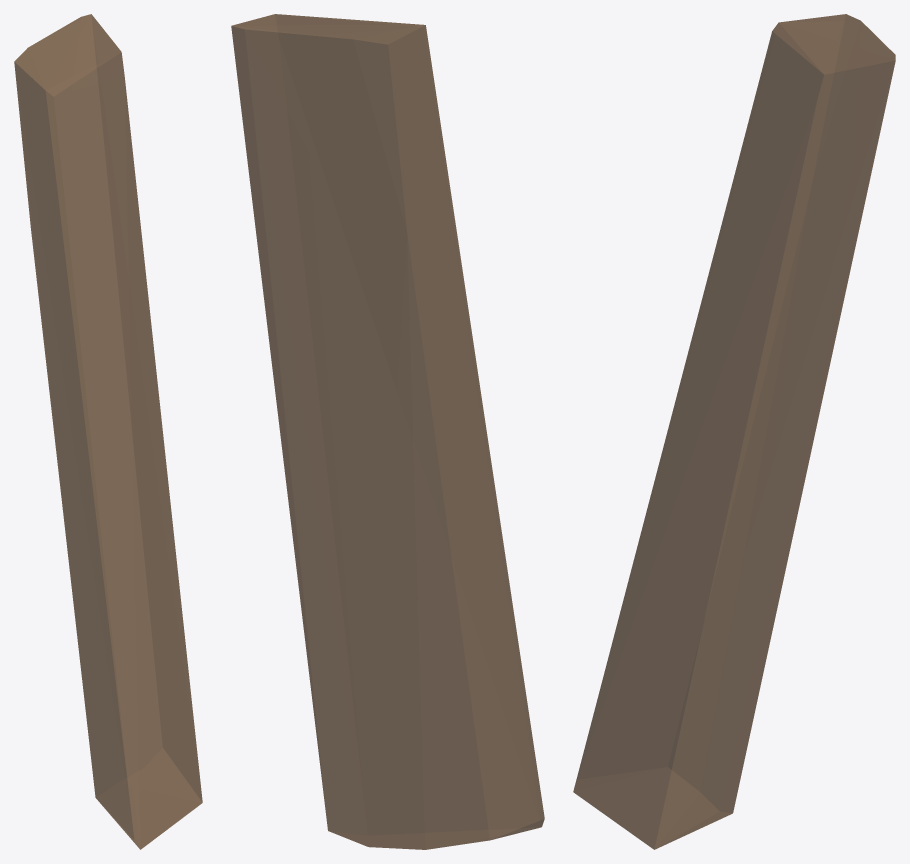
3 views of the same model, side by side, from view 1: azimuth 30°, elevation 25°; view 2: azimuth 150°, elevation 25°; view 3: azimuth 270°, elevation 25° (orthographic). The views are drawn at different scales.
Parts seen in each view (by area): view 1: Shape_IndexedFaceSet.021_Shape_IndexedFaceSet.7647; view 2: Shape_IndexedFaceSet.021_Shape_IndexedFaceSet.7647; view 3: Shape_IndexedFaceSet.021_Shape_IndexedFaceSet.7647.
Boxes of the visible parts, x1,y1,x2,y2 form: Shape_IndexedFaceSet.021_Shape_IndexedFaceSet.7647: (14,14,202,849); Shape_IndexedFaceSet.021_Shape_IndexedFaceSet.7647: (231,14,544,849); Shape_IndexedFaceSet.021_Shape_IndexedFaceSet.7647: (573,14,895,849).
Size of the model in its own units: 0.1702 by 1.12 by 0.416.
